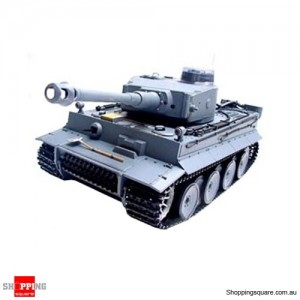Battle Tank: (32, 61, 266, 234)
